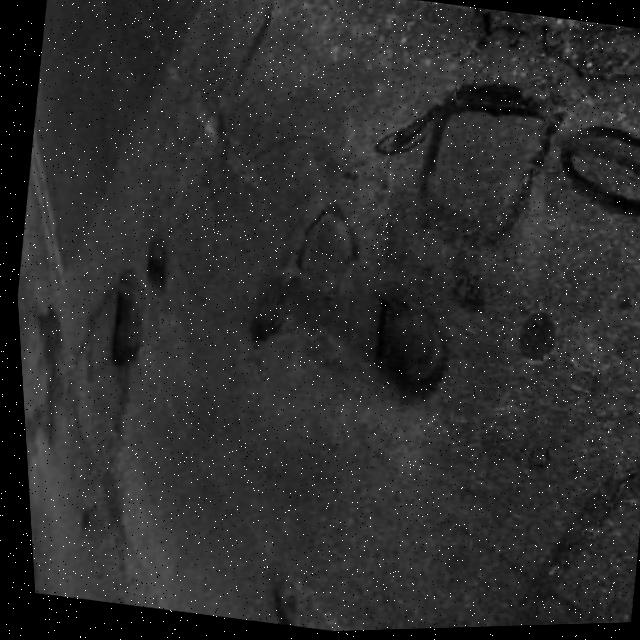Pothole: (462, 5, 640, 102), (353, 284, 455, 405), (90, 268, 151, 372), (254, 577, 314, 632), (133, 237, 174, 292)
